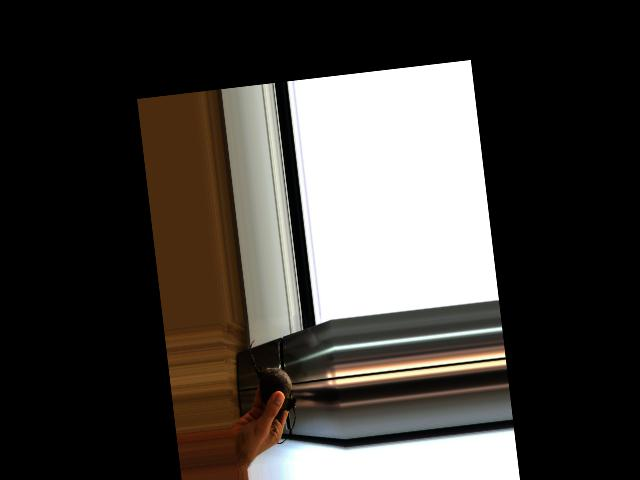beet: (248, 334, 300, 445)
